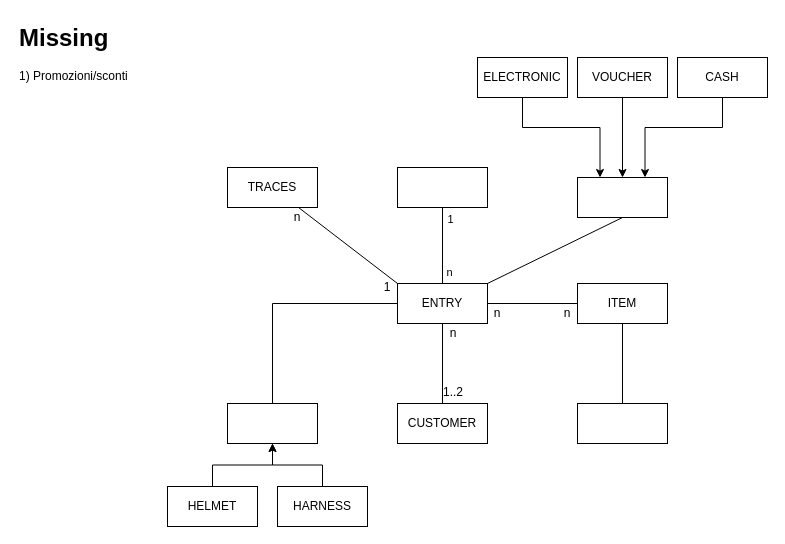
The diagram is 785 pixels wide and 544 high, and some of its shapes have lost their labels. Here are the shapes that lost their labels. From the top down, the centre of each, then its label:
point (442, 187): ORDER
point (622, 197): PAYMENT
point (272, 423): EQUIPMENT
point (622, 423): CATALOG
